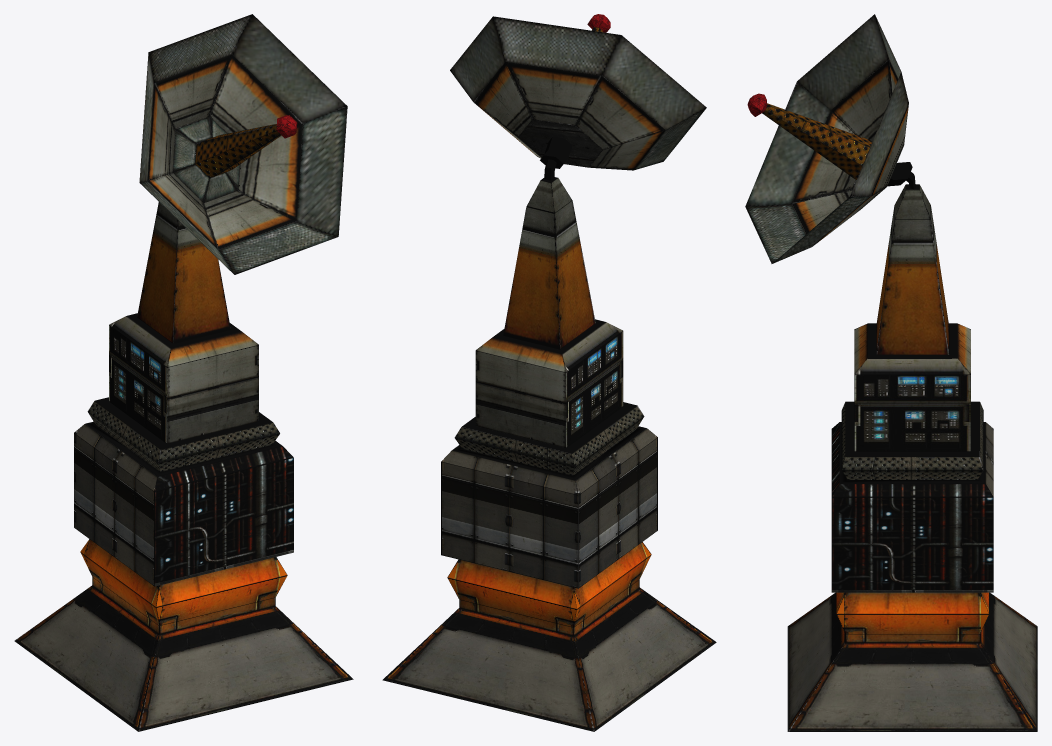
File: satellite_tower.fbx
3 renders of one model, left to right at view 1: azimuth 30°, elevation 25°; view 2: azimuth 150°, elevation 25°; view 3: azimuth 270°, elevation 25°, orthographic. The views are drawn at different scales.
Parts seen in each view (by area): view 1: polySurface2; view 2: polySurface2; view 3: polySurface2.
Part boxes in pixels (left/top/right/bottom): polySurface2: left=14, top=14, right=353, bottom=731; polySurface2: left=382, top=14, right=716, bottom=731; polySurface2: left=745, top=14, right=1037, bottom=731.
Bounding box in the file's own units: 1.12 × 2.82 × 1.17.
